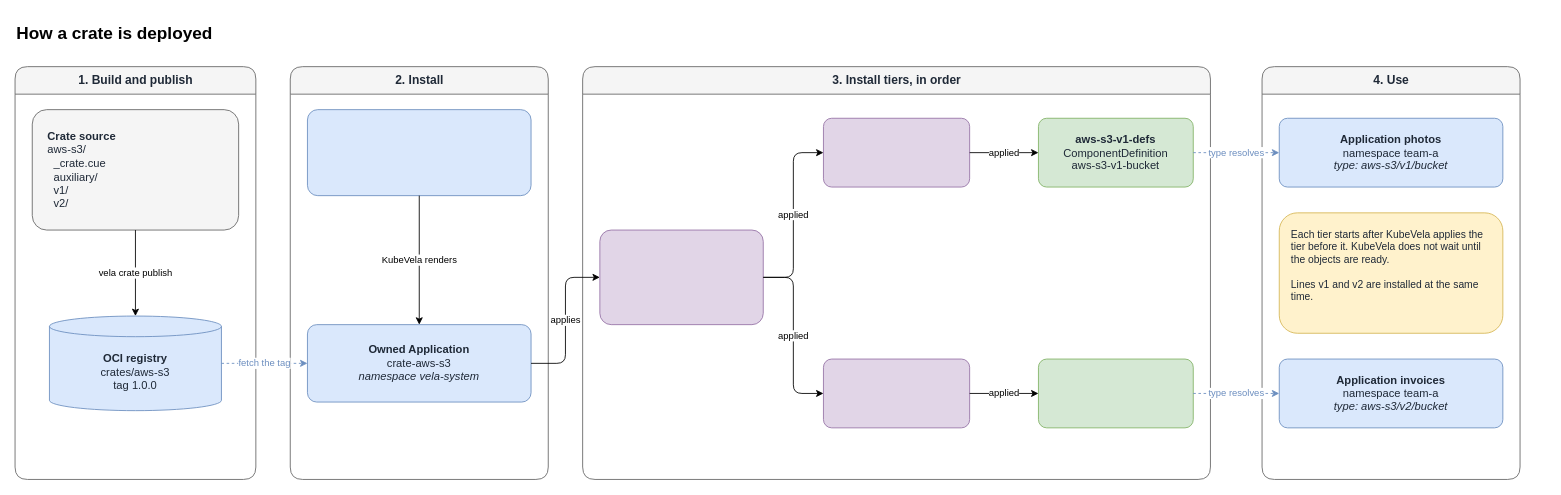
Some shapes in this 1561 by 495 pixel diagram are drawn without their labels. The centre of each missing label's shape, as x and y in pixels:
"aws-s3-aux Provider, Functions, XRD, EnvironmentConfig" belongs at point 681,277.
"aws-s3-v1-aux Composition aws-s3-v1" belongs at point 896,152.
"aws-s3-v2-aux Composition aws-s3-v2" belongs at point 896,393.
"aws-s3-v2-defs ComponentDefinition aws-s3-v2-bucket" belongs at point 1115,393.
"Installer Application crate-aws-s3-deploy namespace team-a type: crate" belongs at point 419,152.
